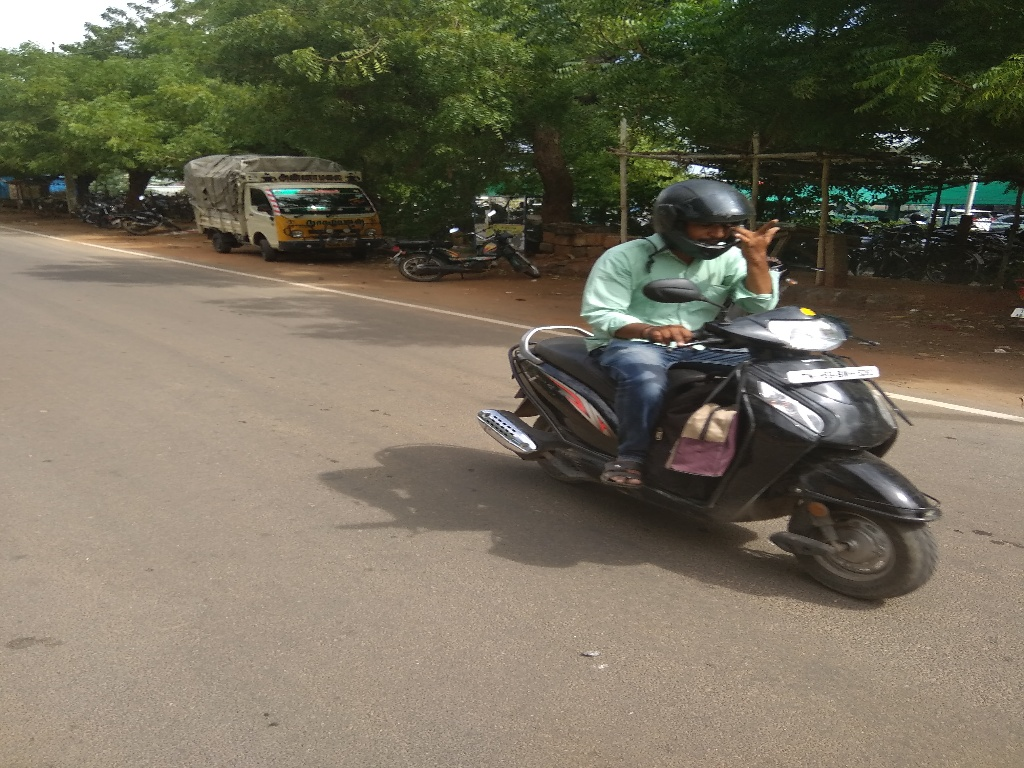biker: (455, 125, 967, 628)
helmet: (642, 155, 769, 279)
